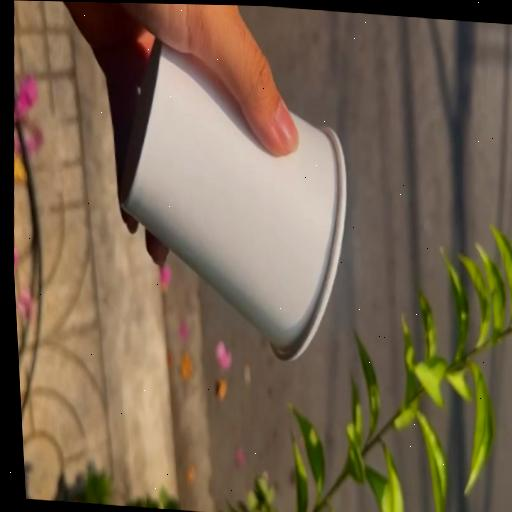Ly_giay: (119, 40, 346, 360)
